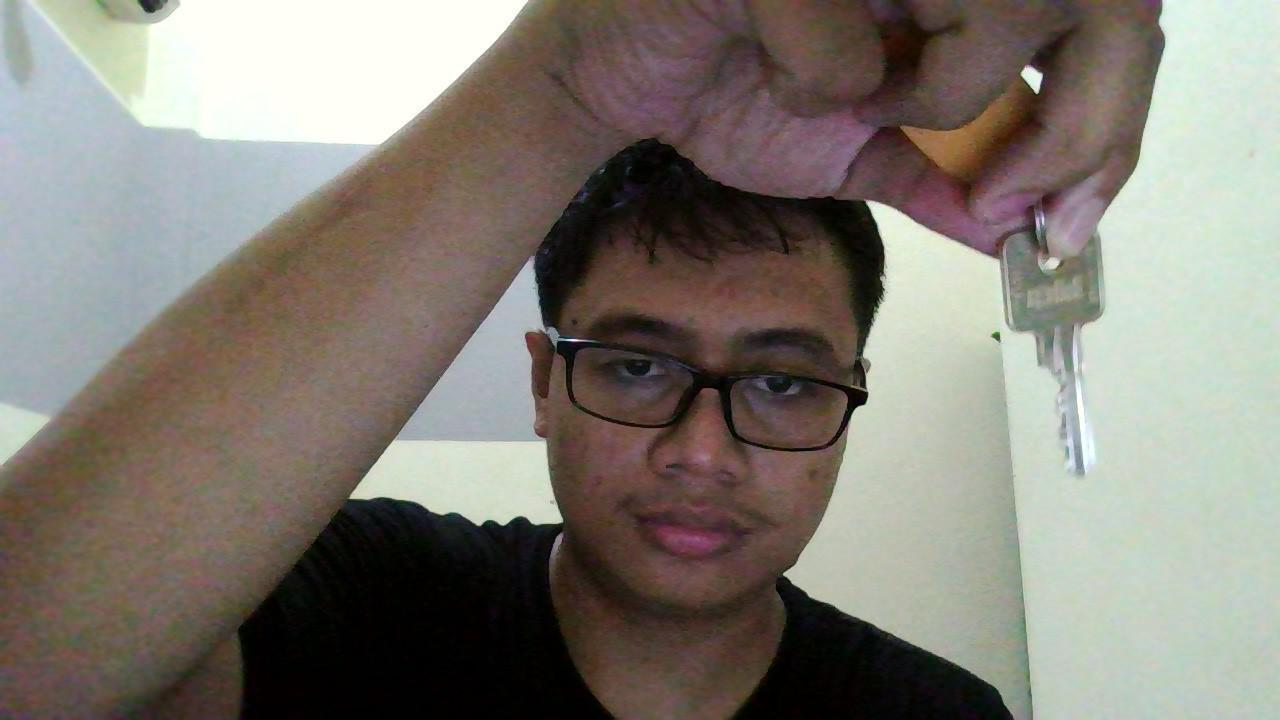keys: (1000, 173, 1111, 490)
